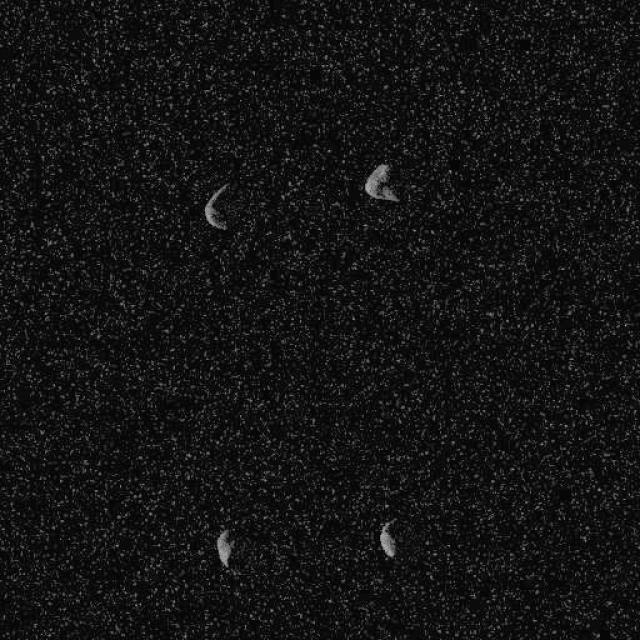D2: (362, 162, 400, 202), (204, 181, 231, 230), (215, 528, 234, 568), (378, 519, 397, 559)
